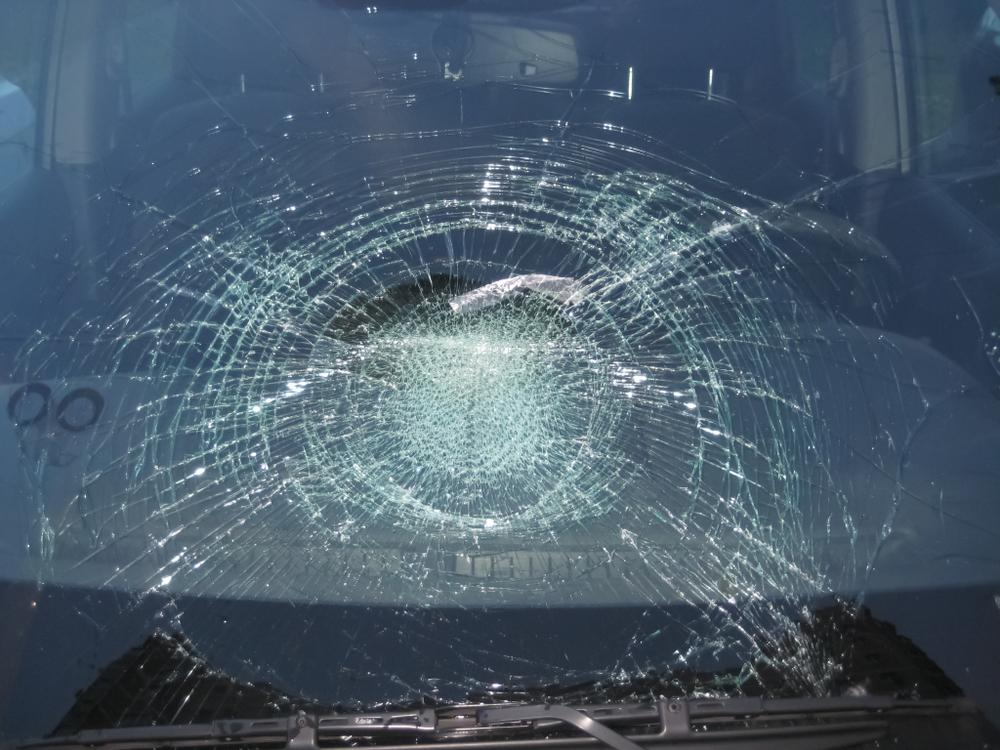glass shatter: (0, 0, 1000, 748)
